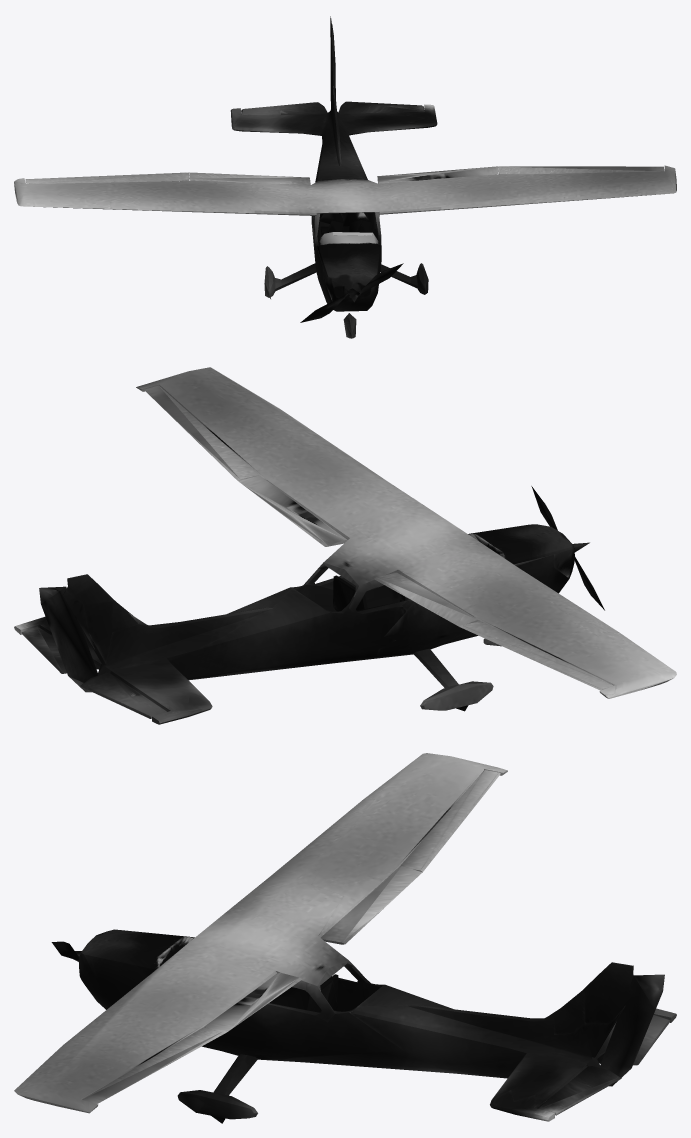
File: cessna172.lod1.glb
The picture shows the model from 3 angles, top to bottom: view 1: azimuth 30°, elevation 25°; view 2: azimuth 150°, elevation 25°; view 3: azimuth 270°, elevation 25°; orthographic projection. The views are drawn at different scales.
Visible parts, largest first — view 1: Object_10, Object_7; view 2: Object_10, Object_7; view 3: Object_10, Object_7.
Part boxes in pixels (x1=…): Object_10: x1=14, y1=24, x2=676, y2=311; Object_7: x1=25, y1=16, x2=663, y2=338; Object_10: x1=14, y1=367, x2=676, y2=724; Object_7: x1=21, y1=385, x2=613, y2=718; Object_10: x1=14, y1=753, x2=676, y2=1121; Object_7: x1=51, y1=770, x2=670, y2=1123.
Size of the model in its own units: 11 by 2.85 by 8.63.
Materials: 2 (2 with a texture image).
